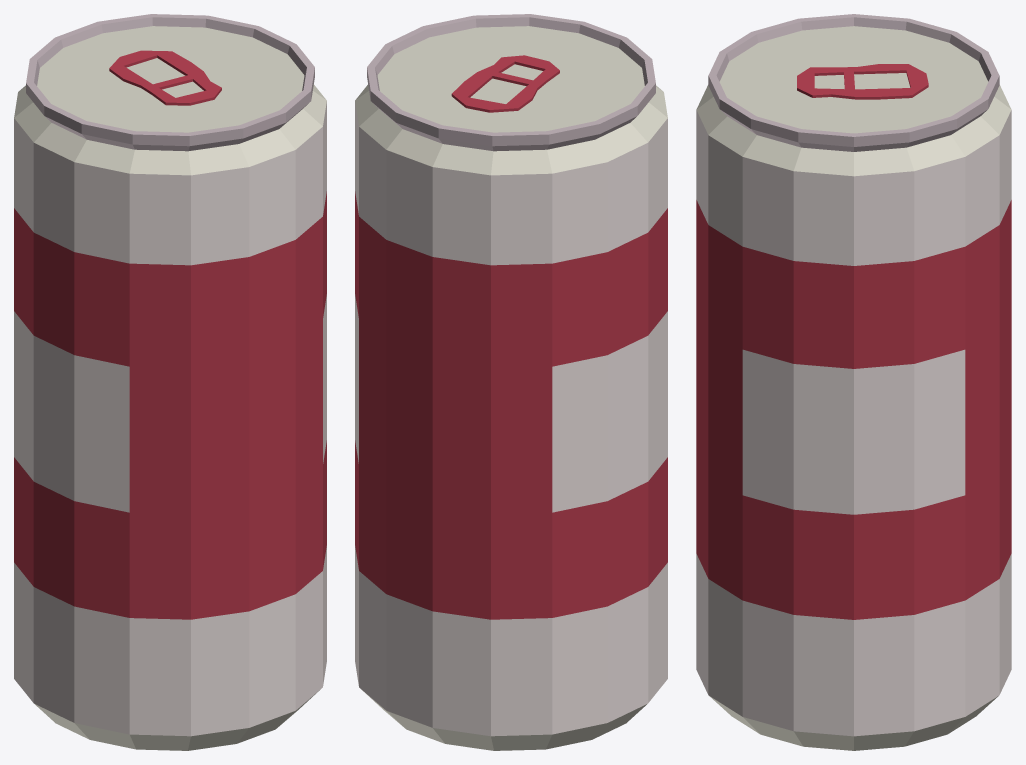
File: BEAR.fbx
3 renders of one model, left to right at view 1: azimuth 30°, elevation 25°; view 2: azimuth 150°, elevation 25°; view 3: azimuth 270°, elevation 25°, orthographic.
Parts seen in each view (by area): view 1: Circle, Plane.001; view 2: Circle, Plane.001; view 3: Circle, Plane.001.
Boxes of the visible parts, box(x1,y1,x2,y2) form: Circle: box(14, 14, 326, 750); Plane.001: box(109, 50, 221, 105); Circle: box(355, 14, 667, 750); Plane.001: box(451, 55, 559, 112); Circle: box(696, 14, 1011, 750); Plane.001: box(797, 64, 928, 99).
Bounding box in the file's own units: 12.42 × 26.95 × 12.42.
Materials: 1 (1 with a texture image).
